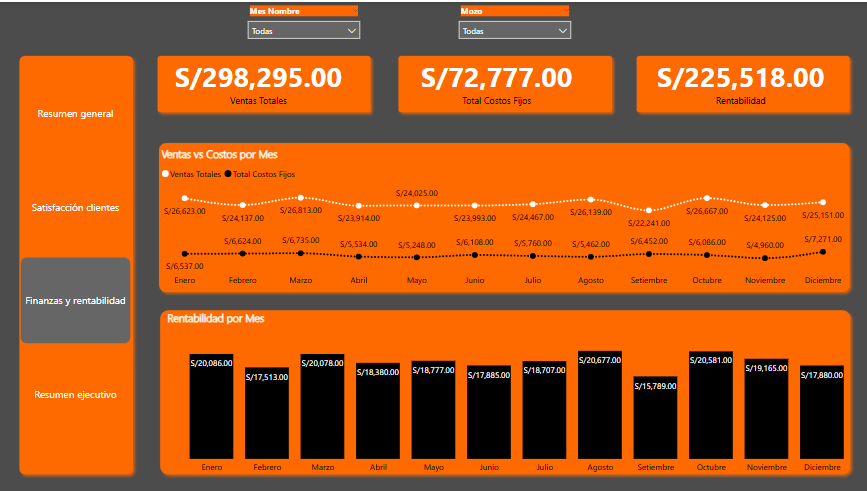

Layout of this report page (visuals, bound fields, positions):
{"tool":"powerbi","page":{"name":"Finanzas y rentabilidad","canvas":[1280,720],"ordinal":2},"visuals":[{"type":"slicer","fields":{"Values":["Calendario.Mes Nombre"]},"box":[356.2,0,185,67.5],"z":0},{"type":"slicer","fields":{"Values":["Mozos.Mozo"]},"box":[666.2,0,185,70],"z":1000},{"type":"card","fields":{"Values":["Medidas_restaurantes.Ventas Totales"]},"box":[242.5,67.5,277.5,98.8],"z":2000},{"type":"card","fields":{"Values":["Medidas_restaurantes.Total Costos Fijos"]},"box":[611.2,67.5,240,98.8],"z":3000},{"type":"card","fields":{"Values":["Medidas_restaurantes.Rentabilidad"]},"box":[948.8,67.5,281.2,98.8],"z":4000},{"type":"lineChart","title":"Ventas vs Costos por Mes","fields":{"Category":["Calendario.Mes Nombre"],"Y":["Medidas_restaurantes.Ventas Totales","Medidas_restaurantes.Total Costos Fijos"]},"box":[233.8,211.2,1016.2,215],"z":5000},{"type":"clusteredColumnChart","title":"Rentabilidad por Mes","fields":{"Category":["Calendario.Mes Nombre"],"Y":["Medidas_restaurantes.Rentabilidad"]},"box":[242.5,452.5,1037.5,248.8],"z":6000},{"type":"pageNavigator","box":[31.2,98.8,163.8,542.5],"z":6001}]}

Visuals, with their boxes in screenshot pixels (x1, y1, x2, y2), scaled from the page's 1280x720 canvas onto the 867x491 screenshot:
slicer - Calendario.Mes Nombre: Rect(241, 0, 367, 46)
slicer - Mozos.Mozo: Rect(451, 0, 577, 48)
card - Medidas_restaurantes.Ventas Totales: Rect(164, 46, 352, 113)
card - Medidas_restaurantes.Total Costos Fijos: Rect(414, 46, 577, 113)
card - Medidas_restaurantes.Rentabilidad: Rect(643, 46, 833, 113)
"Ventas vs Costos por Mes" lineChart: Rect(158, 144, 847, 291)
"Rentabilidad por Mes" clusteredColumnChart: Rect(164, 309, 866, 478)
pageNavigator: Rect(21, 67, 132, 437)
